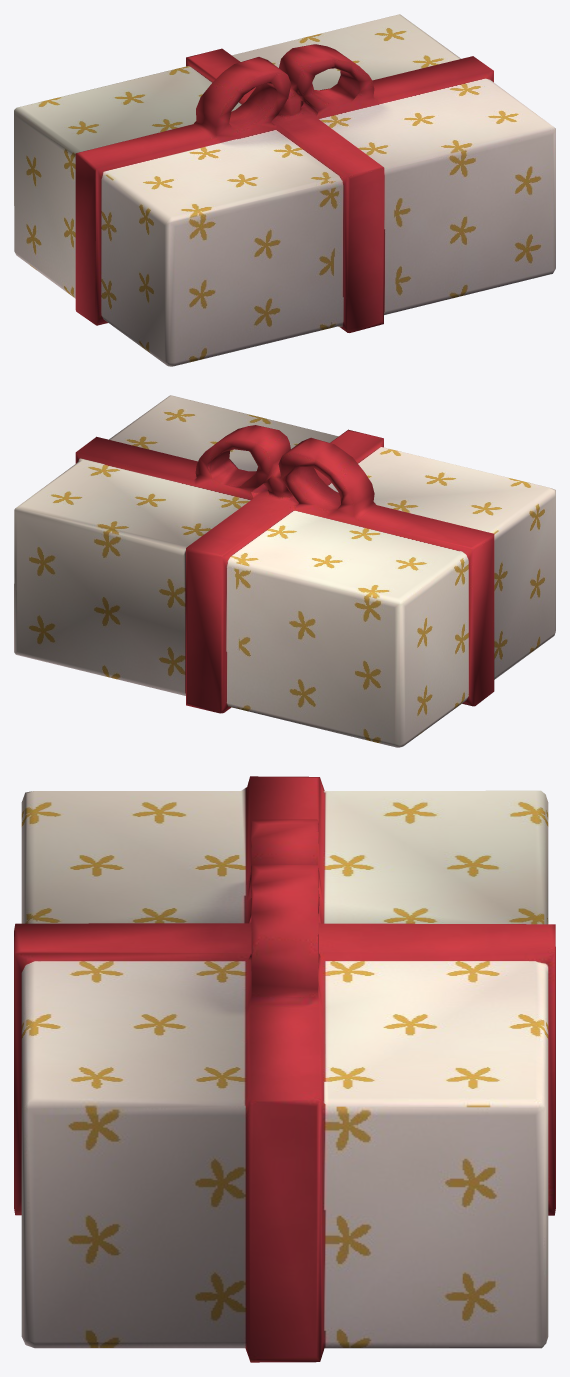
Rendered from gift_wide.glb.
The picture shows the model from 3 angles, top to bottom: view 1: azimuth 30°, elevation 25°; view 2: azimuth 150°, elevation 25°; view 3: azimuth 270°, elevation 25°; orthographic projection. The views are drawn at different scales.
Parts seen in each view (by area): view 1: Box; view 2: Box; view 3: Box.
Boxes of the visible parts, x1=… form: Box: x1=14, y1=14, x2=555, y2=366; Box: x1=14, y1=395, x2=555, y2=747; Box: x1=14, y1=776, x2=555, y2=1362.
Bounding box in the file's own units: 0.612 × 0.3097 × 0.432.
Materials: 1 (1 with a texture image).
